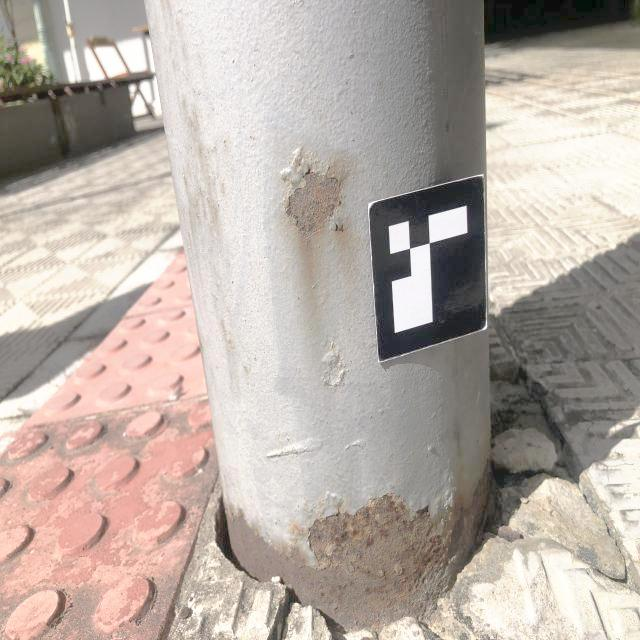Corrosion: (226, 461, 491, 630), (286, 168, 341, 238), (333, 222, 344, 234)
